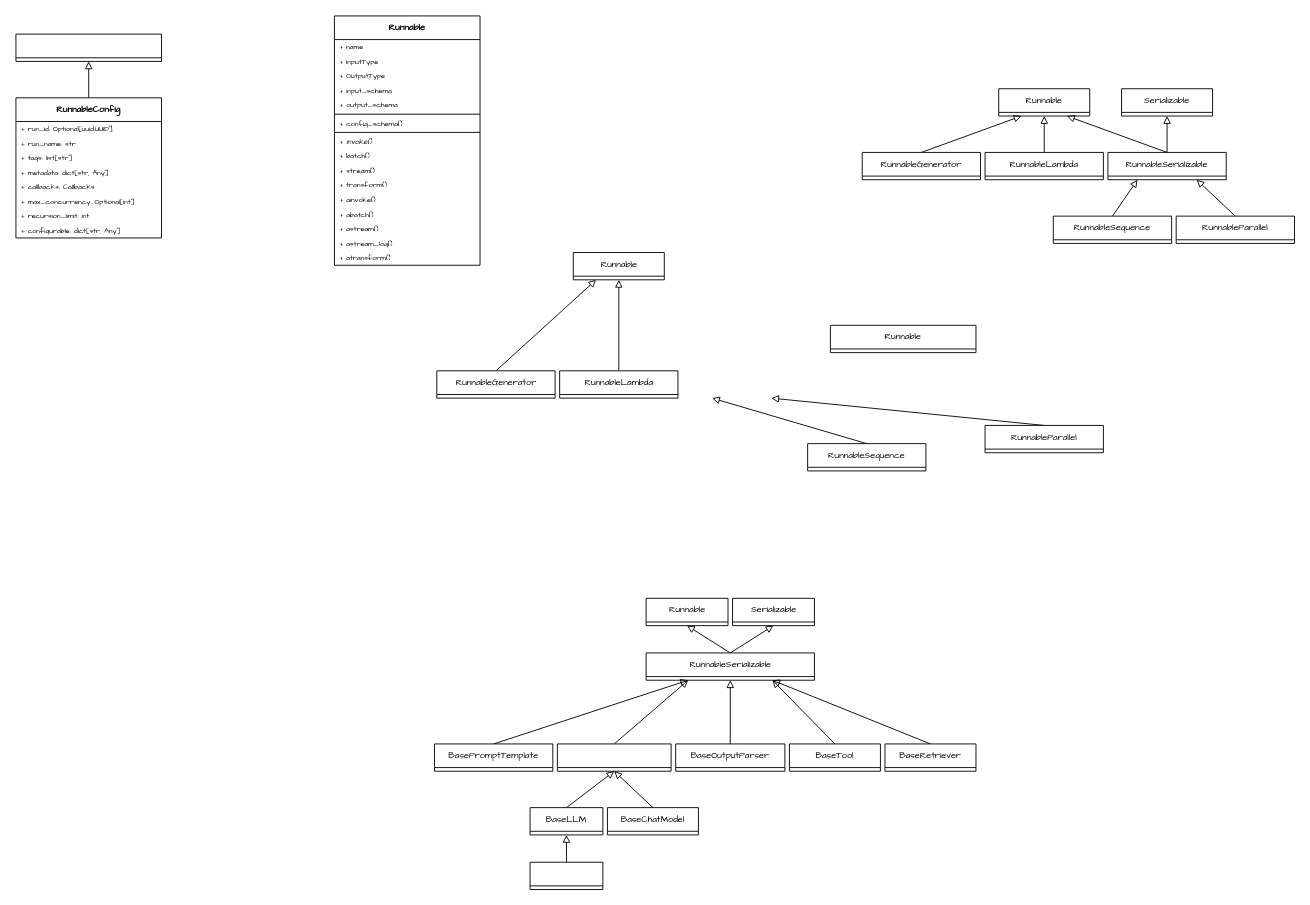
Some shapes in this 1310 by 905 pixel diagram are drawn without their labels. The centre of each missing label's shape, as x and y in pixels:
"BaseLanguageModel" goes at (613,757).
"LLM" goes at (566,875).
"TypedDict" goes at (88,47).
